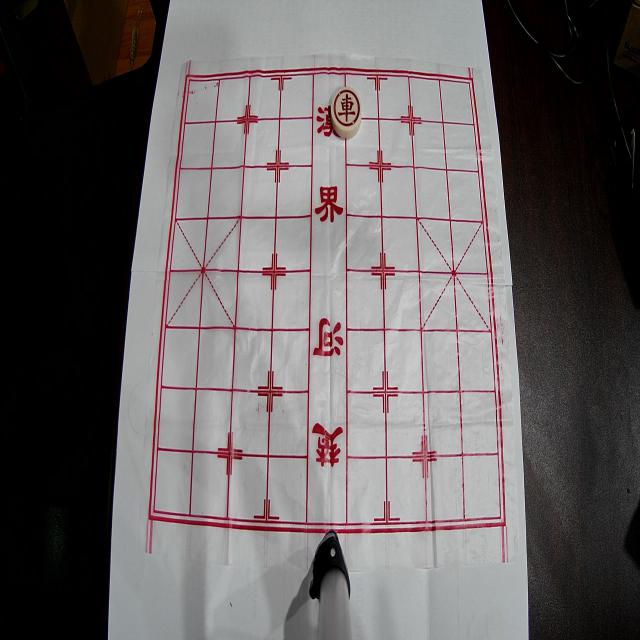red-chariot: (331, 87, 362, 138)
